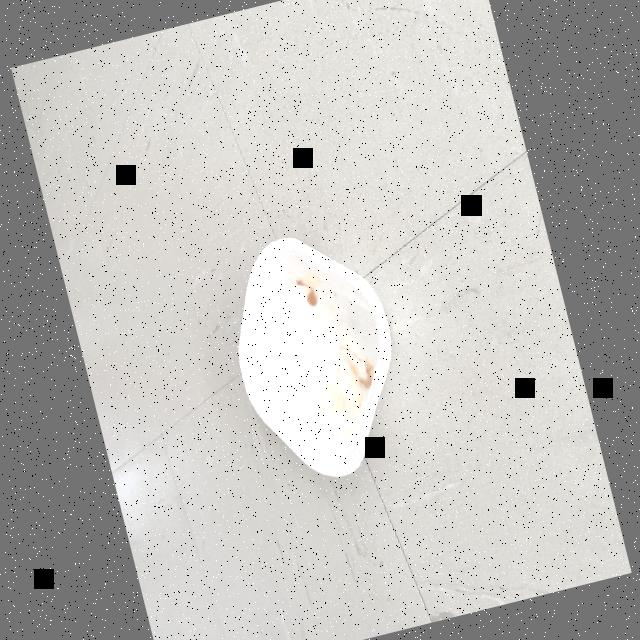cardboard_bowl: (203, 213, 424, 498)
